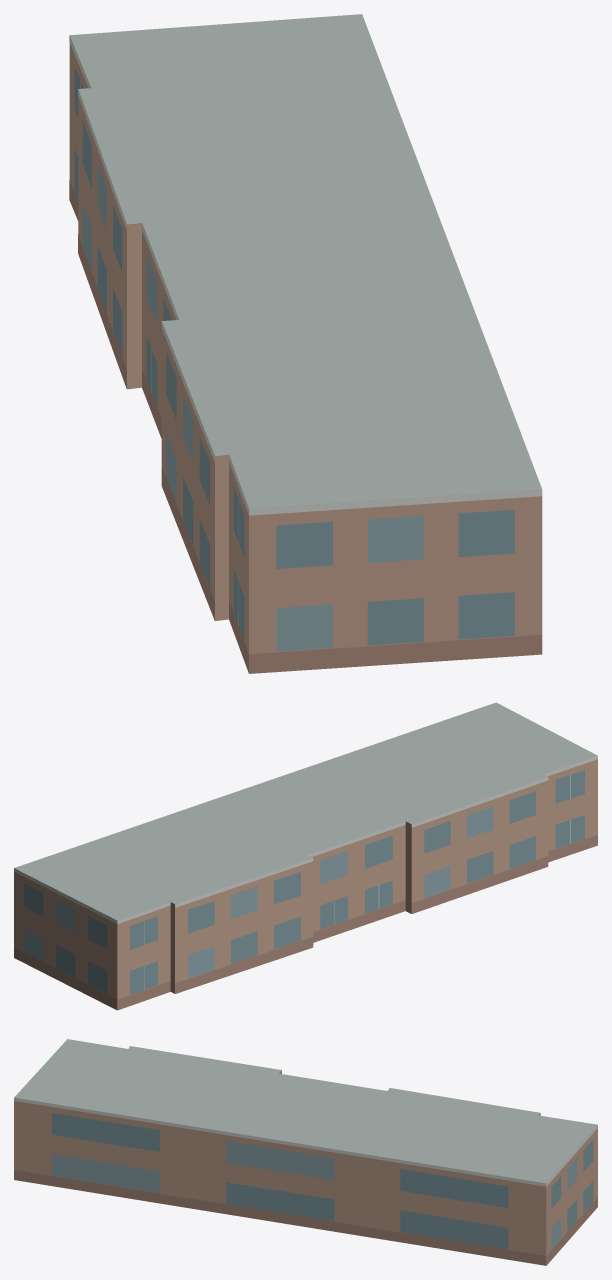
The model's file is survey-upis-32513095.glb.
3 views of the same model, one above another, from view 1: azimuth 30°, elevation 25°; view 2: azimuth 150°, elevation 25°; view 3: azimuth 270°, elevation 25° (orthographic). The views are drawn at different scales.
Visible parts, largest first — view 1: survey-upis-32513095.tmp; view 2: survey-upis-32513095.tmp; view 3: survey-upis-32513095.tmp.
Part boxes in pixels (box(x1,y1,x2,y2)): survey-upis-32513095.tmp: box(69, 14, 542, 673); survey-upis-32513095.tmp: box(14, 702, 597, 1010); survey-upis-32513095.tmp: box(14, 1039, 597, 1265).
Bounding box in the file's own units: 22.94 × 6.1 × 39.18.
